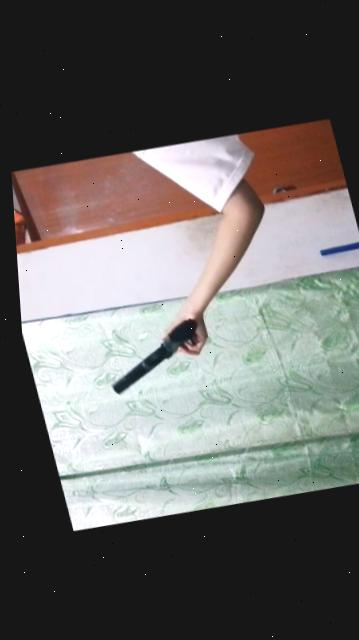pistol: (86, 305, 221, 408)
